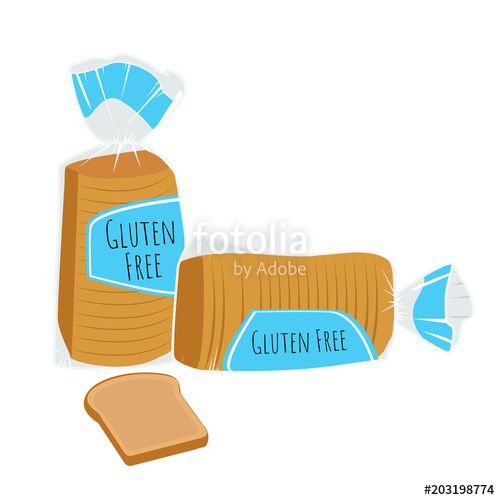slice of bread: (173, 237, 404, 375), (56, 147, 186, 376), (75, 372, 228, 466)
